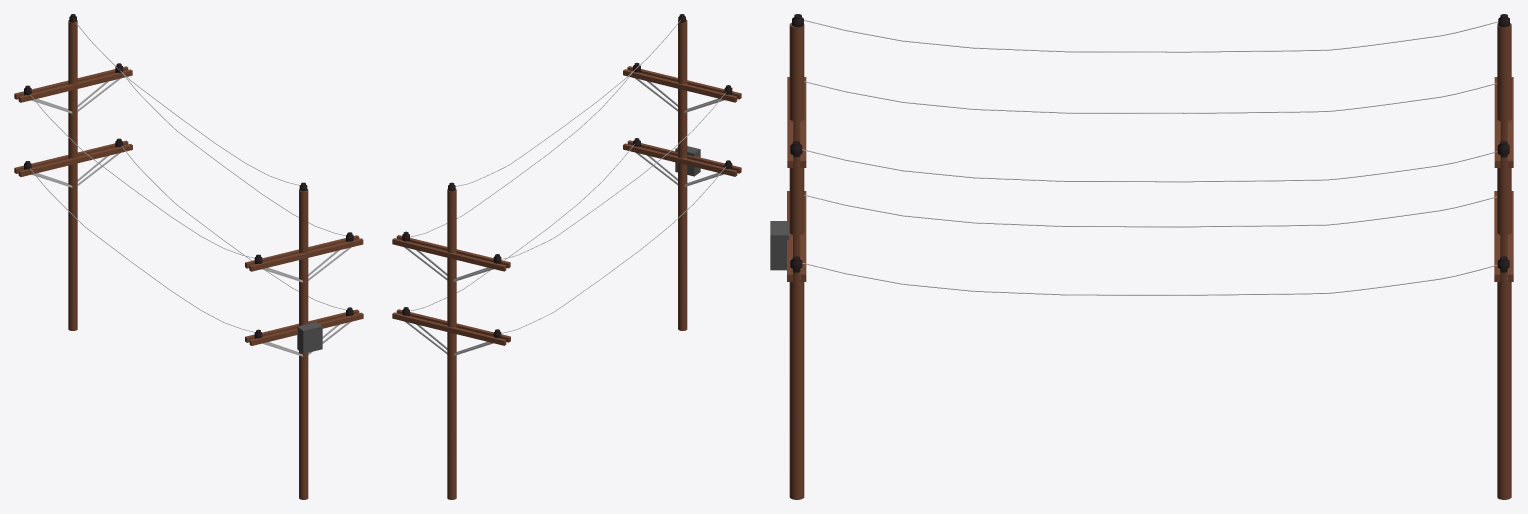
Rendered from telephone_pole.glb.
The picture shows the model from 3 angles, left to right: view 1: azimuth 30°, elevation 25°; view 2: azimuth 150°, elevation 25°; view 3: azimuth 270°, elevation 25°; orthographic projection. The views are drawn at different scales.
Visible parts, largest first — view 1: Cylinder001_4a203d, Cylinder001_02219c, Cylinder001_a8bac4, Cylinder001_afcb1f, Cylinder001_ca4a42; view 2: Cylinder001_4a203d, Cylinder001_02219c, Cylinder001_a8bac4, Cylinder001_ca4a42; view 3: Cylinder001_4a203d, Cylinder001_02219c, Cylinder001_ca4a42, Cylinder001_afcb1f.
Part boxes in pixels (x1,y1,x2,y2): Cylinder001_4a203d: [14, 20, 363, 499]; Cylinder001_02219c: [30, 21, 346, 332]; Cylinder001_a8bac4: [31, 78, 351, 356]; Cylinder001_afcb1f: [297, 322, 322, 353]; Cylinder001_ca4a42: [24, 14, 353, 338]; Cylinder001_4a203d: [392, 19, 741, 499]; Cylinder001_02219c: [410, 20, 726, 333]; Cylinder001_a8bac4: [404, 78, 724, 355]; Cylinder001_ca4a42: [402, 14, 732, 338]; Cylinder001_4a203d: [787, 22, 1513, 499]; Cylinder001_02219c: [802, 20, 1498, 295]; Cylinder001_ca4a42: [790, 14, 1509, 272]; Cylinder001_afcb1f: [770, 221, 788, 270].
Size of the model in its own units: 25.12 by 67.24 by 94.14.
